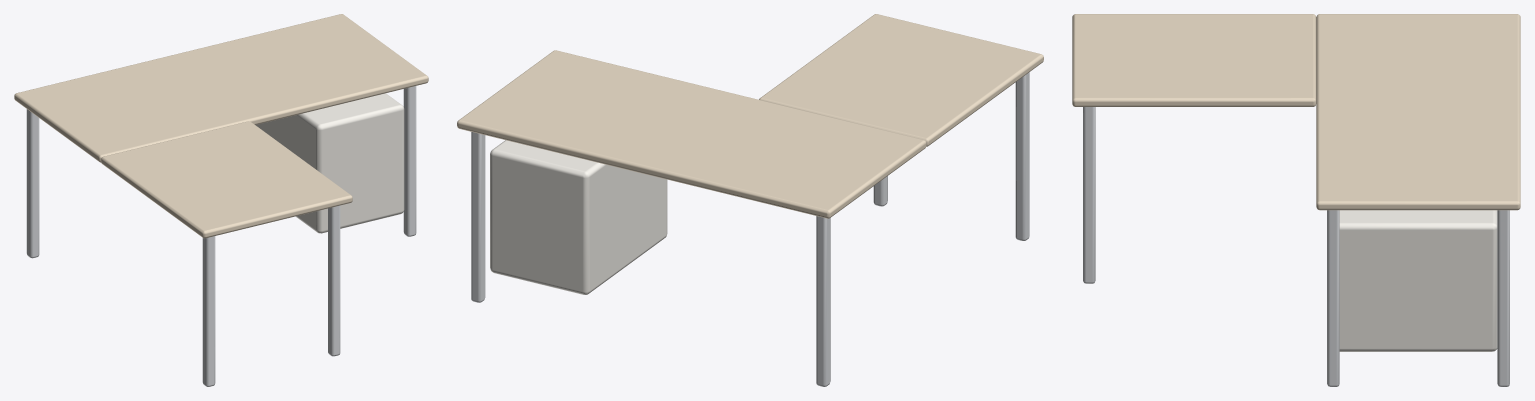
Rendered from deskL.glb.
3 renders of one model, left to right at view 1: azimuth 30°, elevation 25°; view 2: azimuth 150°, elevation 25°; view 3: azimuth 270°, elevation 25°, orthographic. The views are drawn at different scales.
Parts seen in each view (by area): view 1: deskL; view 2: deskL; view 3: deskL.
Part boxes in pixels (box(x1,y1,x2,y2)): deskL: box(14, 14, 428, 386); deskL: box(457, 14, 1043, 386); deskL: box(1072, 14, 1520, 386).
Size of the model in its own units: 1.58 by 0.74 by 1.58.
